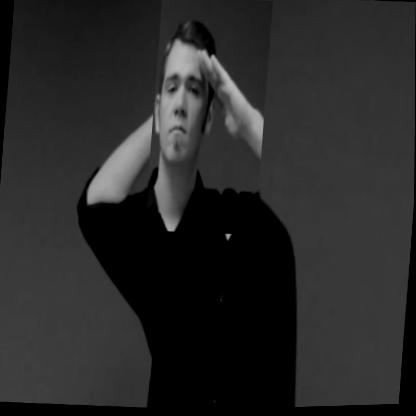Hello: (145, 0, 273, 239)
